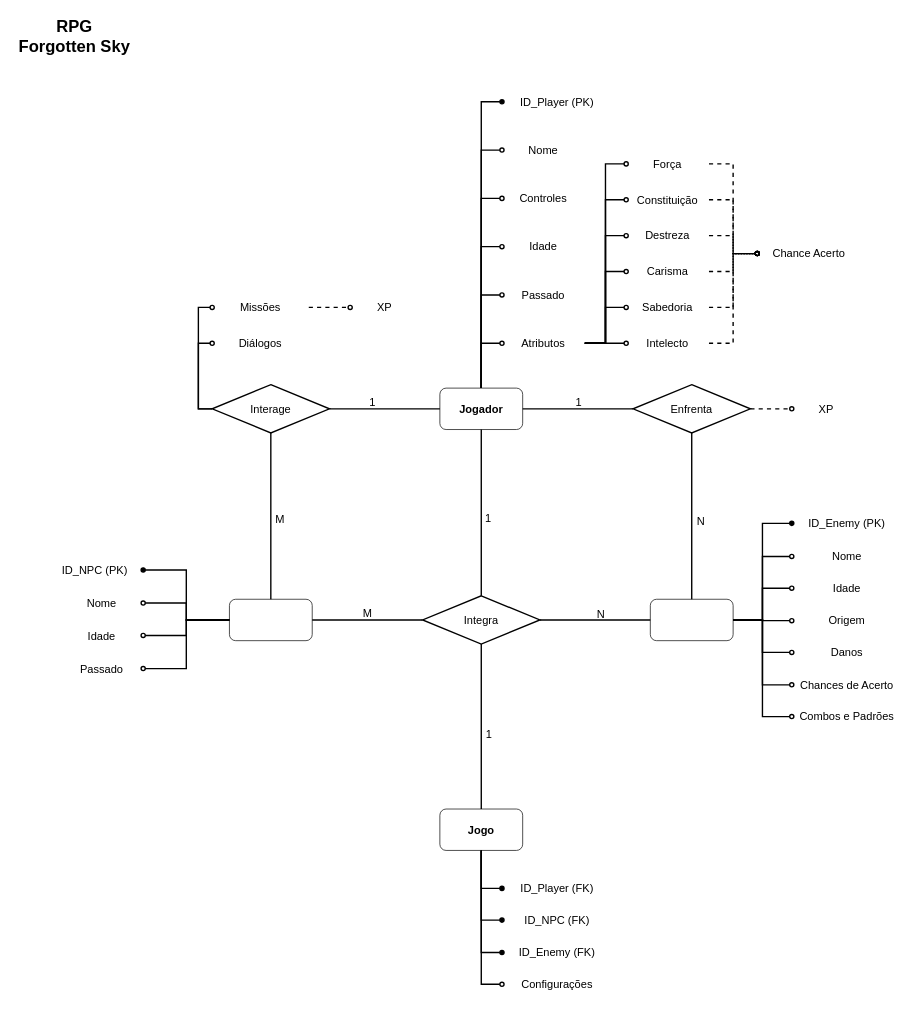
This 914x1009 diagram has some shape labels left out. Each missing label, with the centre of its shape:
"Adversários" belongs at point (691, 620).
"NPCs" belongs at point (270, 620).
